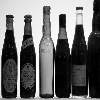beer: (18, 12, 40, 100)
